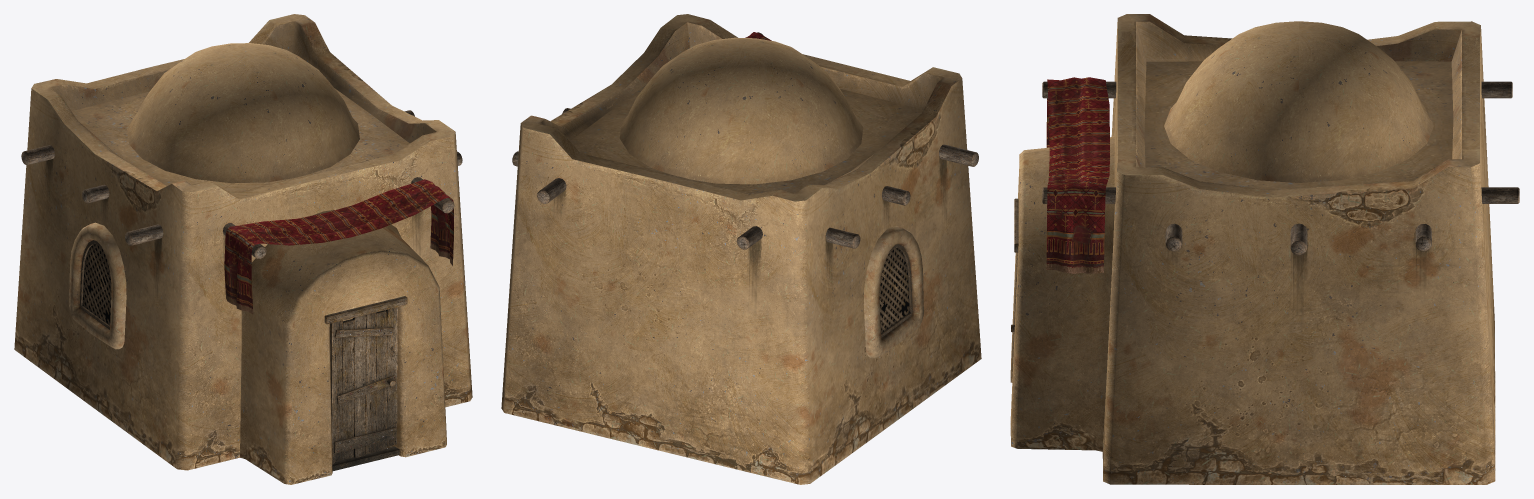
The model's file is poor_desert_house.obj.
3 renders of one model, left to right at view 1: azimuth 30°, elevation 25°; view 2: azimuth 150°, elevation 25°; view 3: azimuth 270°, elevation 25°, orthographic. The views are drawn at different scales.
Parts seen in each view (by area): view 1: obj1, obj3, obj4, obj2; view 2: obj1, obj4, obj2; view 3: obj1, obj2.
Boxes of the visible parts, bbox=[...] form: obj1: bbox=[14, 14, 472, 484]; obj3: bbox=[324, 296, 407, 470]; obj4: bbox=[69, 222, 126, 349]; obj2: bbox=[46, 159, 422, 294]; obj1: bbox=[501, 14, 981, 484]; obj4: bbox=[863, 225, 923, 358]; obj2: bbox=[554, 157, 947, 301]; obj1: bbox=[1010, 14, 1519, 484]; obj2: bbox=[1113, 98, 1484, 304].
Bounding box in the file's own units: 4.47 × 4.04 × 5.05.
Materials: 4 (4 with a texture image).
